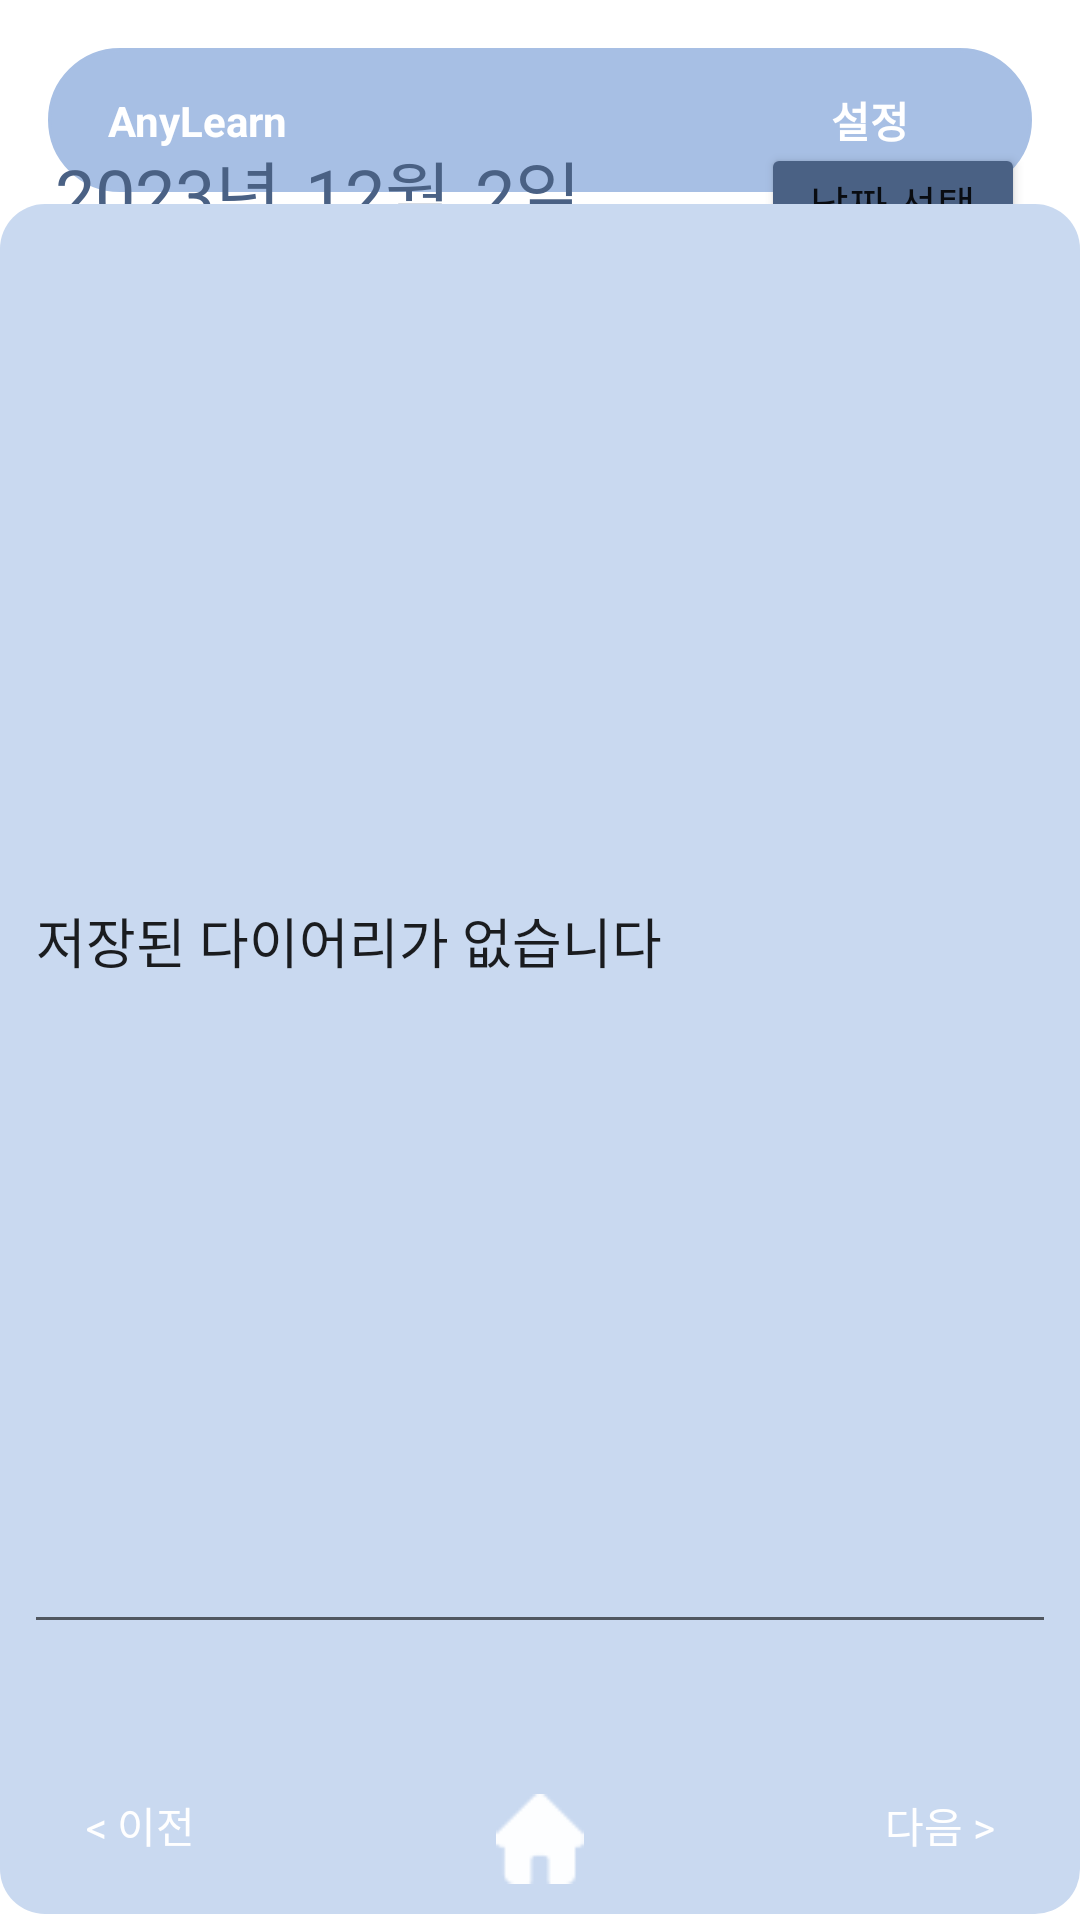

Locate icon controls on the screen. Image size 1080 x 1920, boxes as (x1, y1, x2, y2).
home: (496, 1794, 584, 1884)
